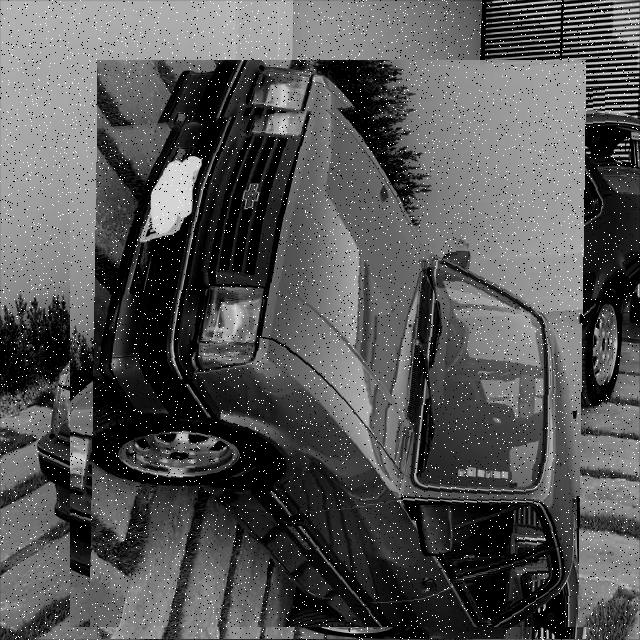car: (71, 87, 613, 628)
